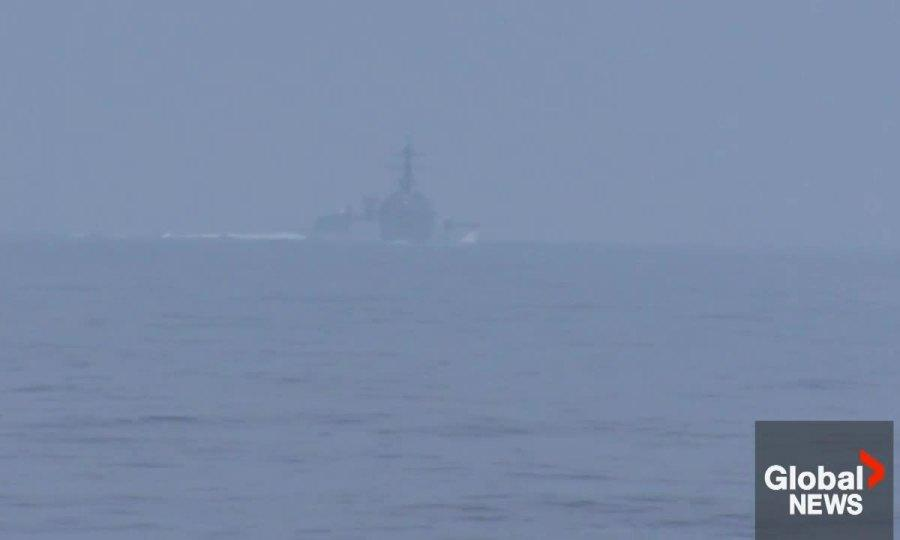MIL_Ship: (305, 135, 483, 244)
